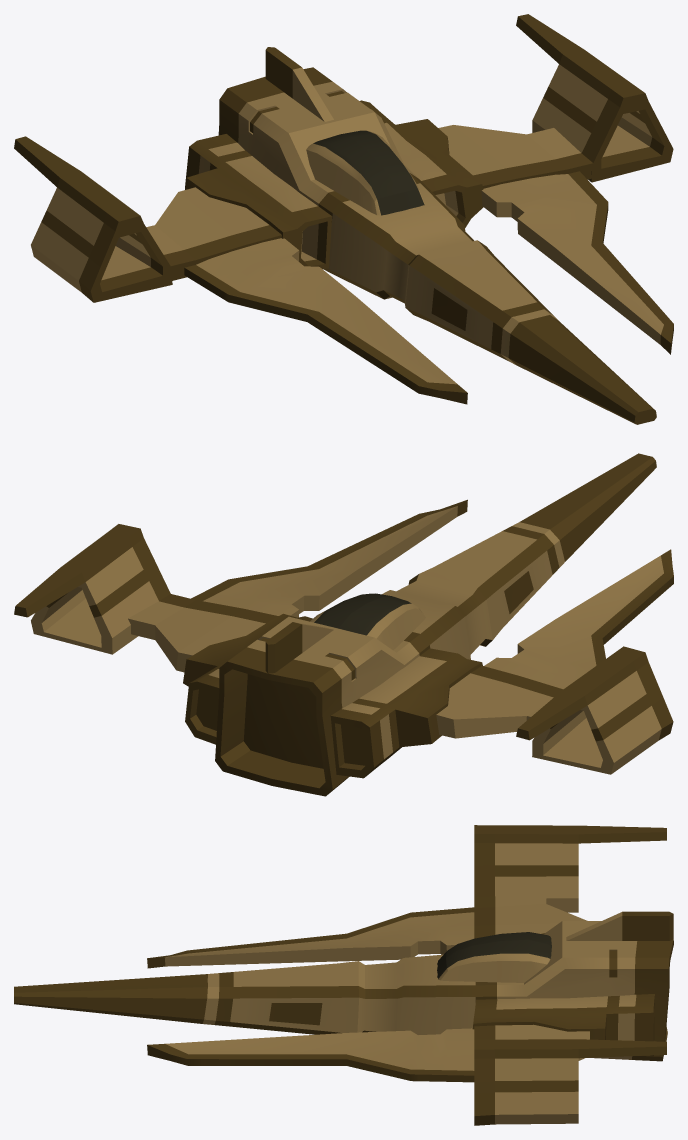
The model's file is quaternius-ultimate-space-pack-spaceship-rae-the-red-panda-transformed.glb.
The picture shows the model from 3 angles, top to bottom: view 1: azimuth 30°, elevation 25°; view 2: azimuth 150°, elevation 25°; view 3: azimuth 270°, elevation 25°; orthographic projection. The views are drawn at different scales.
Visible parts, largest first — view 1: Spaceship_RaeTheRedPanda; view 2: Spaceship_RaeTheRedPanda; view 3: Spaceship_RaeTheRedPanda.
Boxes of the visible parts, bbox=[...] form: Spaceship_RaeTheRedPanda: bbox=[14, 14, 673, 424]; Spaceship_RaeTheRedPanda: bbox=[14, 453, 673, 796]; Spaceship_RaeTheRedPanda: bbox=[14, 825, 673, 1125].
Size of the model in its own units: 9.95 by 2.35 by 11.17.
1 material, 1 textured.
